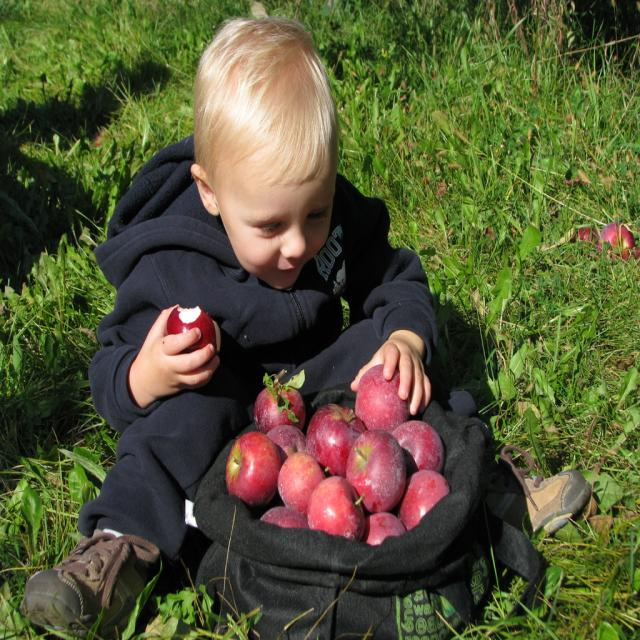Healty Apple: (222, 367, 447, 546), (344, 428, 406, 511), (224, 433, 280, 510), (162, 306, 224, 356), (594, 226, 635, 261), (571, 227, 598, 249), (618, 241, 640, 265)
